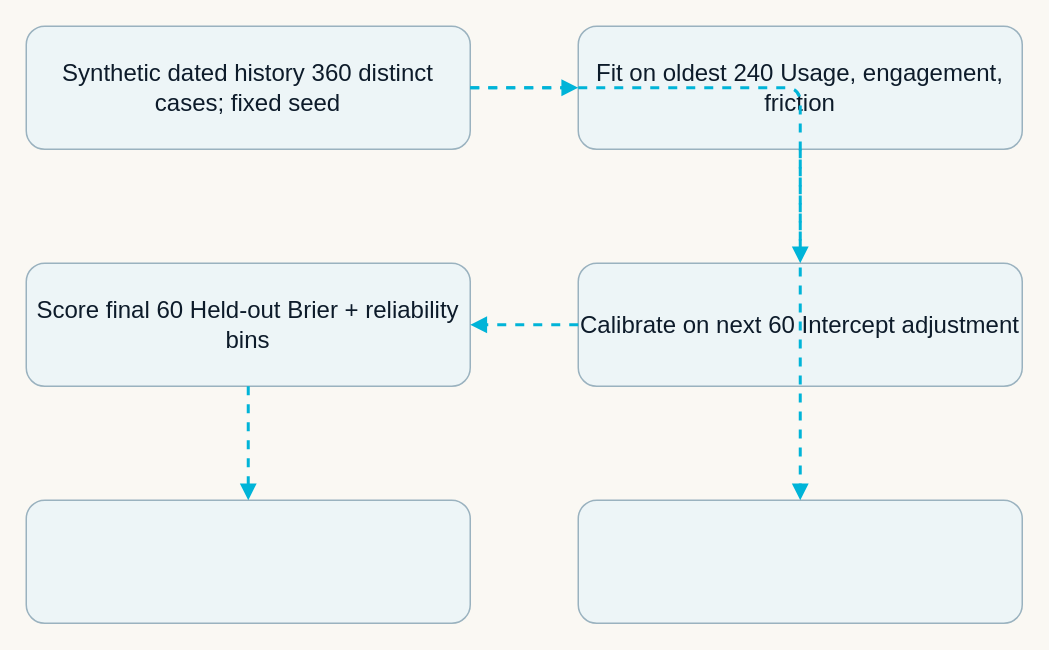
Image size: 1049x650. Some labels were removed from this diagram. Here are the shapes that lost their labels. From the top down, the centre of each, then its label:
At point (247, 561): "Freeze forecast evidence Model ID + features + currency".
At point (799, 561): "Withhold prediction Incomplete or unverified source".
